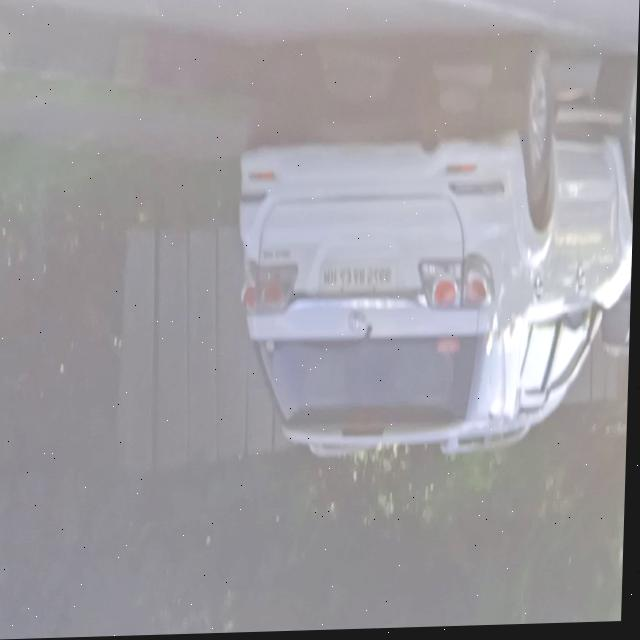plate: (320, 260, 400, 296)
